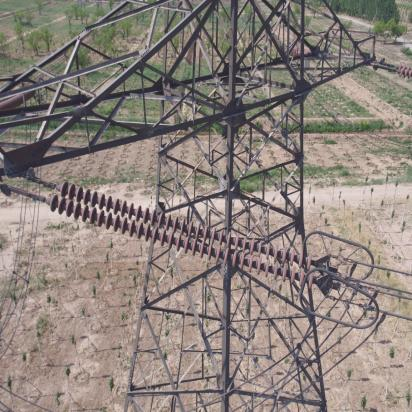insulator: (40, 179, 325, 291)
